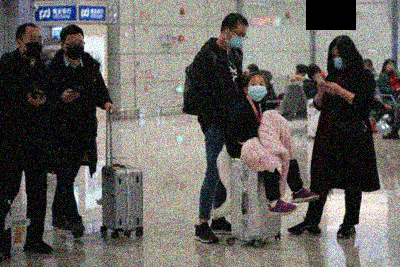with_mask: (21, 32, 44, 59), (63, 37, 85, 60), (228, 28, 248, 50), (248, 78, 268, 100), (333, 51, 348, 70)
without_mask: (388, 63, 396, 72)
